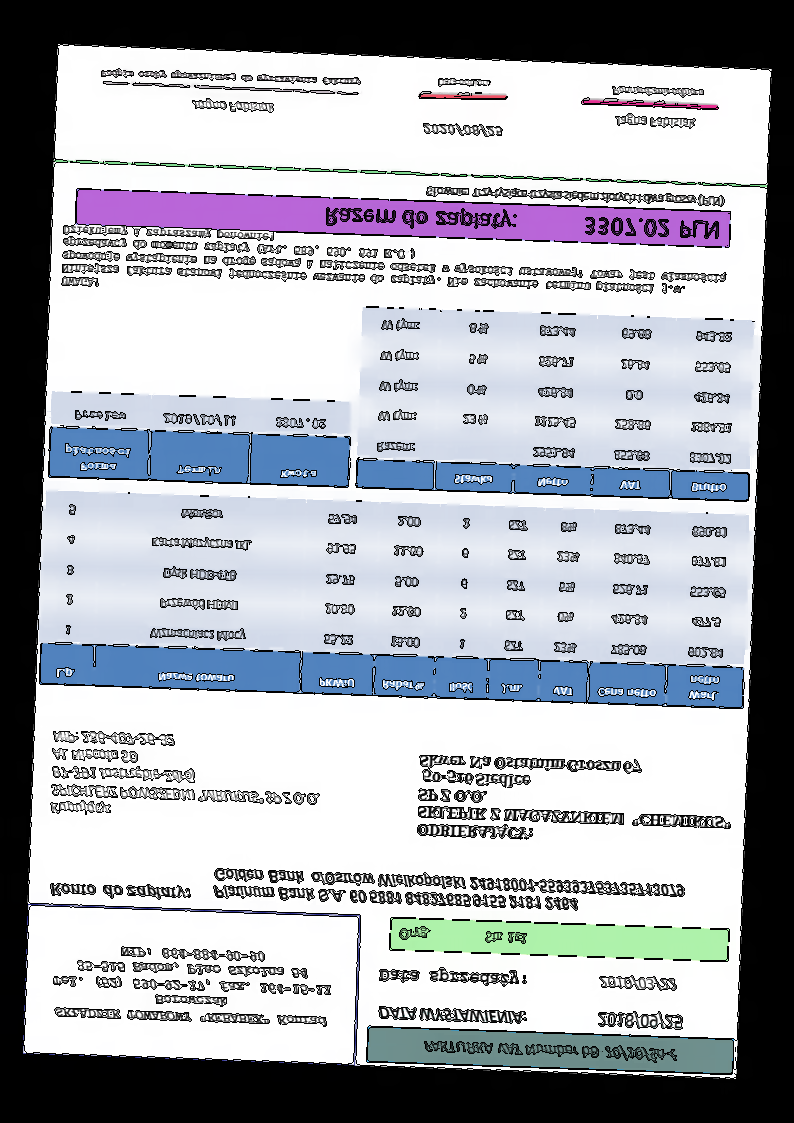Table: (37, 490, 751, 711), (355, 305, 756, 502), (46, 389, 353, 490)
TextBox: (59, 222, 728, 310), (415, 752, 733, 848), (47, 728, 322, 827), (210, 865, 686, 918), (50, 942, 335, 1030), (322, 201, 721, 244), (423, 182, 726, 210), (420, 1036, 681, 1064), (98, 66, 362, 90), (377, 964, 530, 991), (376, 1003, 530, 1027), (47, 878, 192, 903), (396, 924, 529, 947), (595, 1009, 685, 1033), (610, 83, 705, 101), (597, 974, 679, 992), (613, 113, 695, 131), (190, 98, 275, 115), (421, 122, 505, 138), (435, 75, 493, 91)
